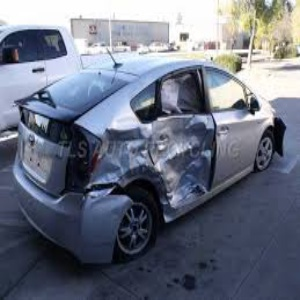door: (157, 159, 228, 211)
